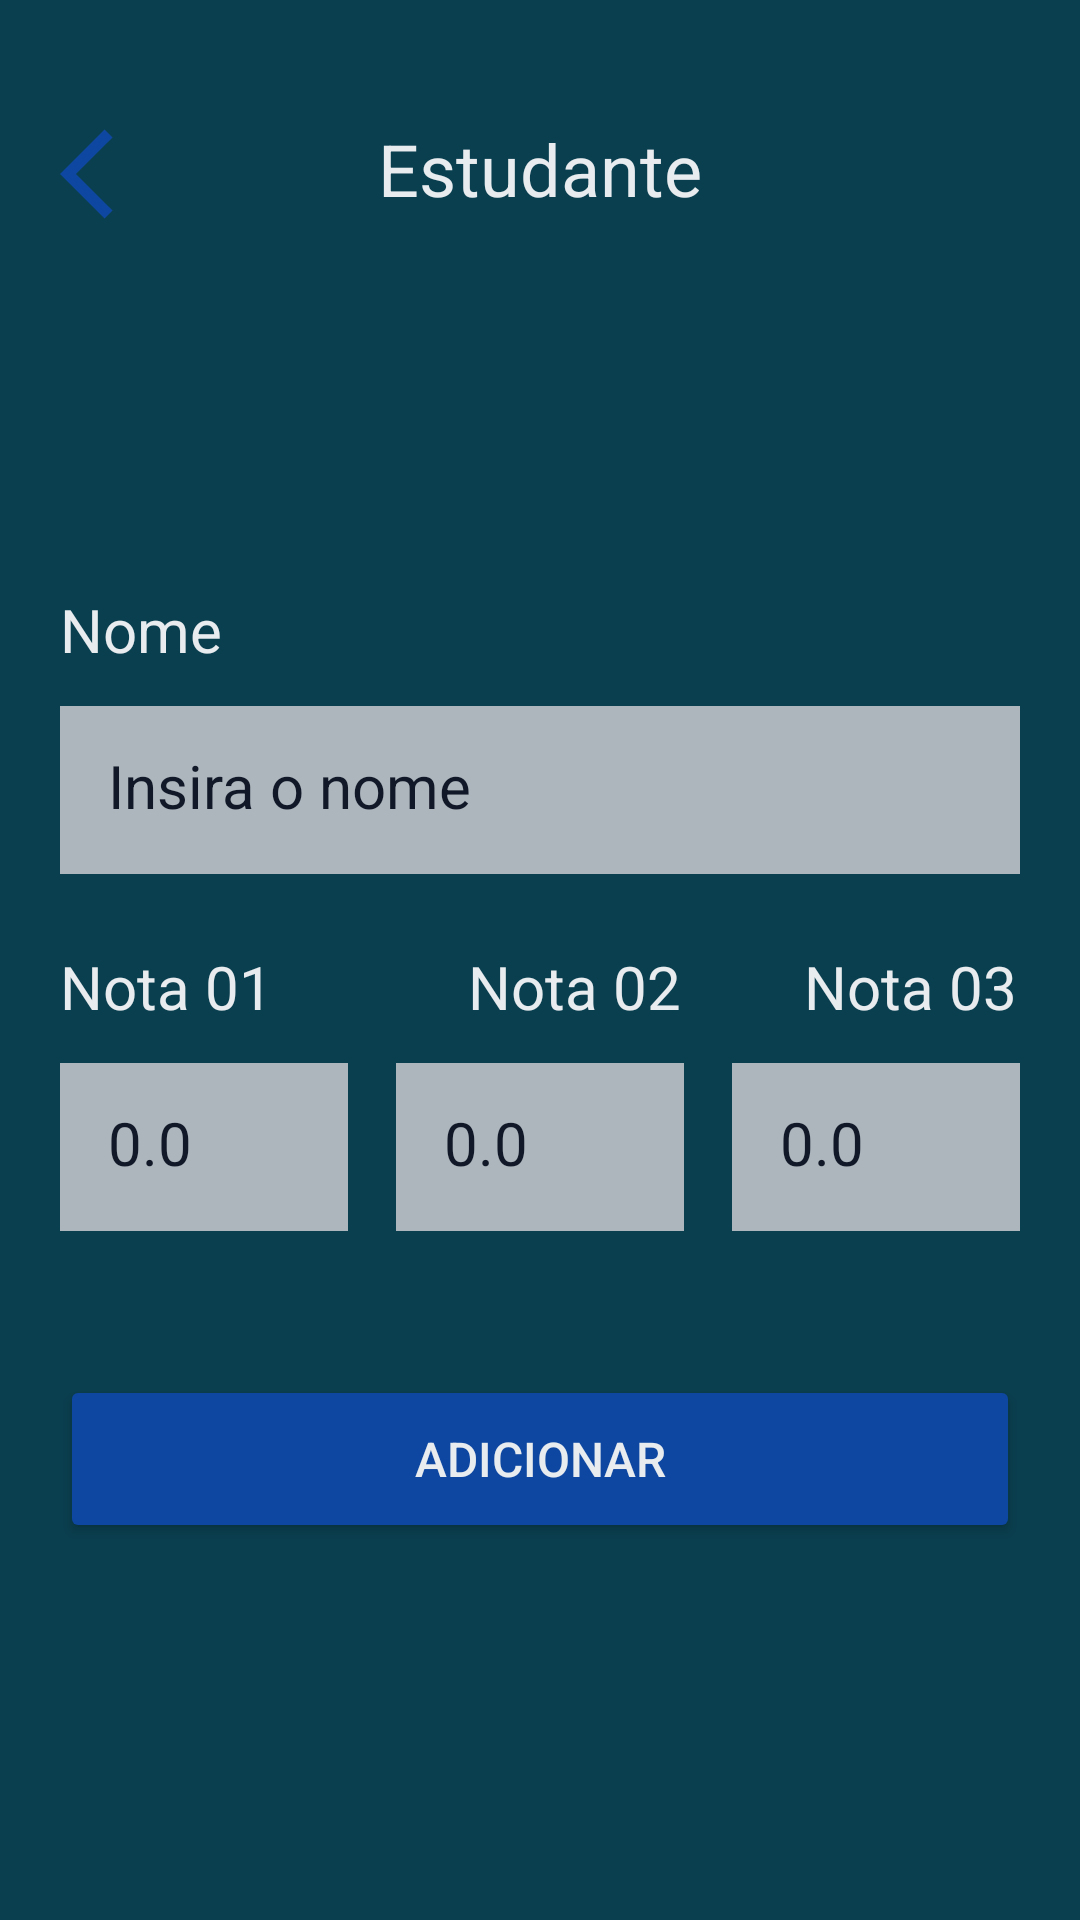

Locate icon controls on the screen. Image size 1080 × 1920, boxes as [x1,y1,x2,y2].
back: [60,130,112,218]
